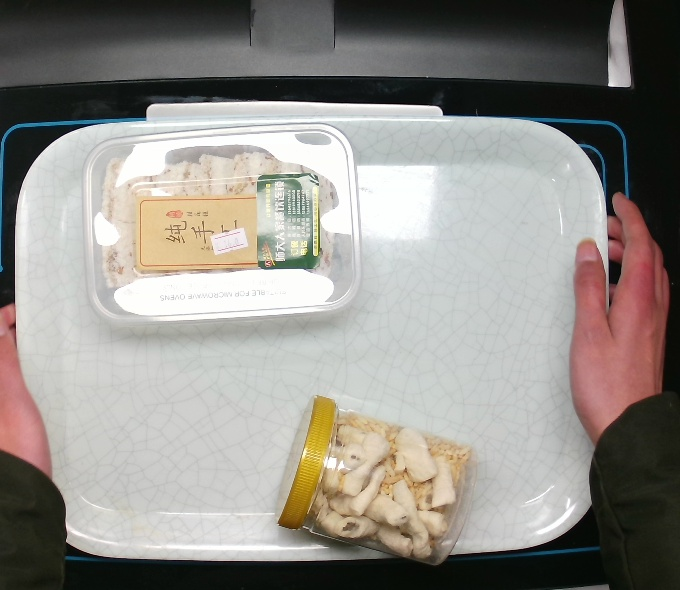wcq-GuiHuaGao: (77, 119, 369, 332)
wcq-MaiYaTang: (271, 389, 482, 573)
